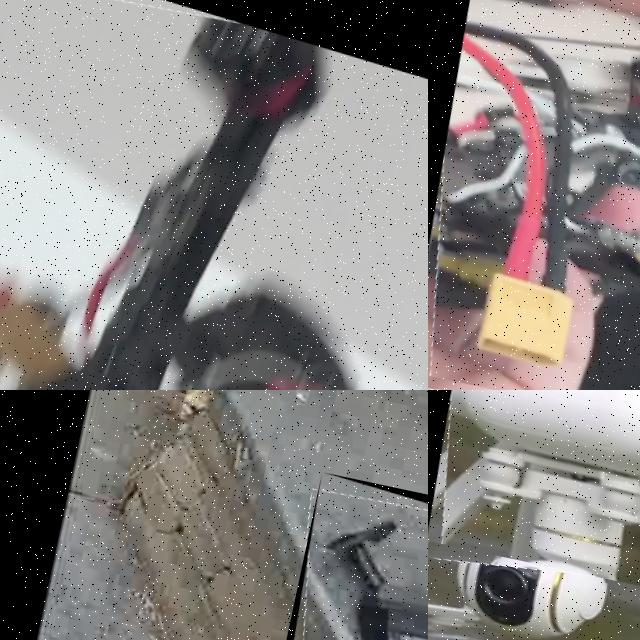0: (266, 471, 428, 640)
drone: (0, 0, 428, 390), (428, 0, 640, 390), (428, 390, 640, 640)
